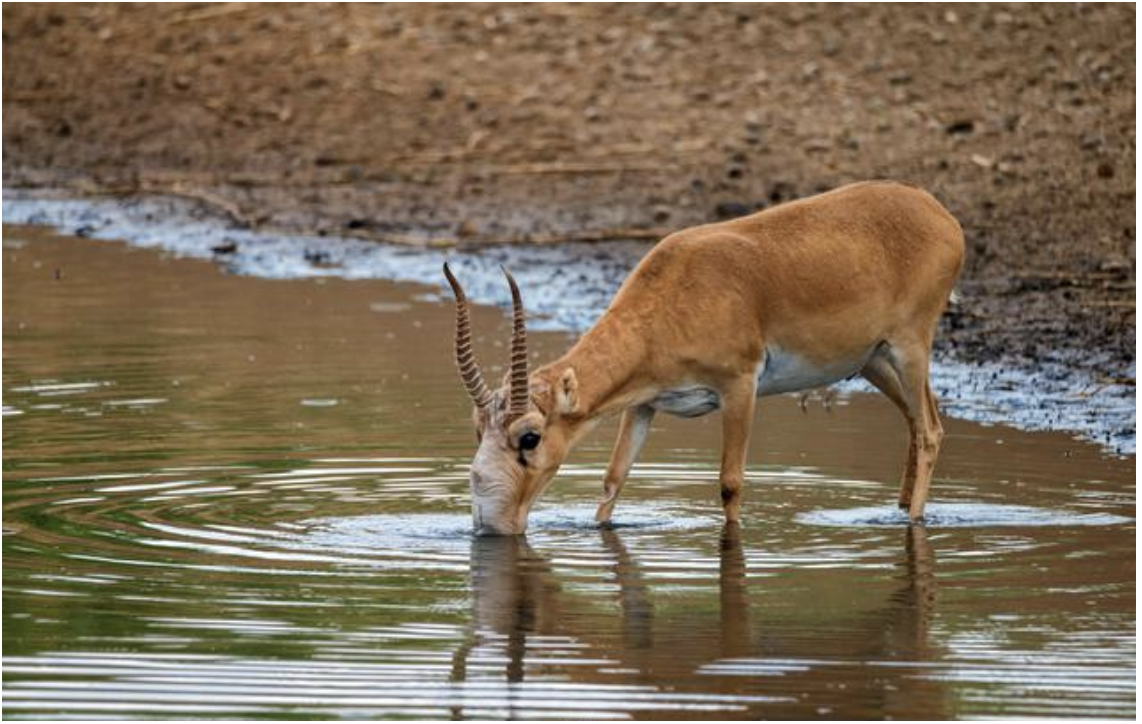saiga: (424, 141, 973, 545)
